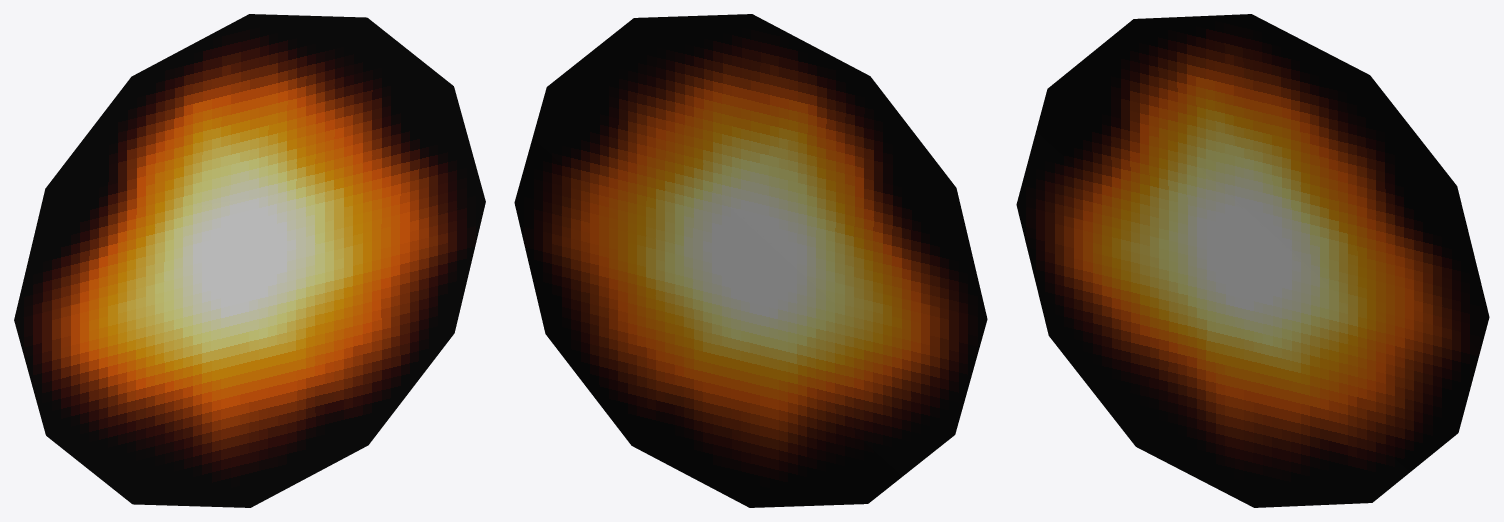
Rendered from MuzzleFlash02.FBX.
The picture shows the model from 3 angles, left to right: view 1: azimuth 30°, elevation 25°; view 2: azimuth 150°, elevation 25°; view 3: azimuth 330°, elevation 25°; orthographic projection.
Visible parts, largest first — view 1: Box01; view 2: Box01; view 3: Box01.
Boxes of the visible parts, x1,y1,x2,y2 form: Box01: [14, 14, 485, 507]; Box01: [514, 14, 987, 507]; Box01: [1016, 14, 1489, 507].
Size of the model in its own units: 0.5756 by 0.5756 by 0.00366.
1 material, 1 textured.
